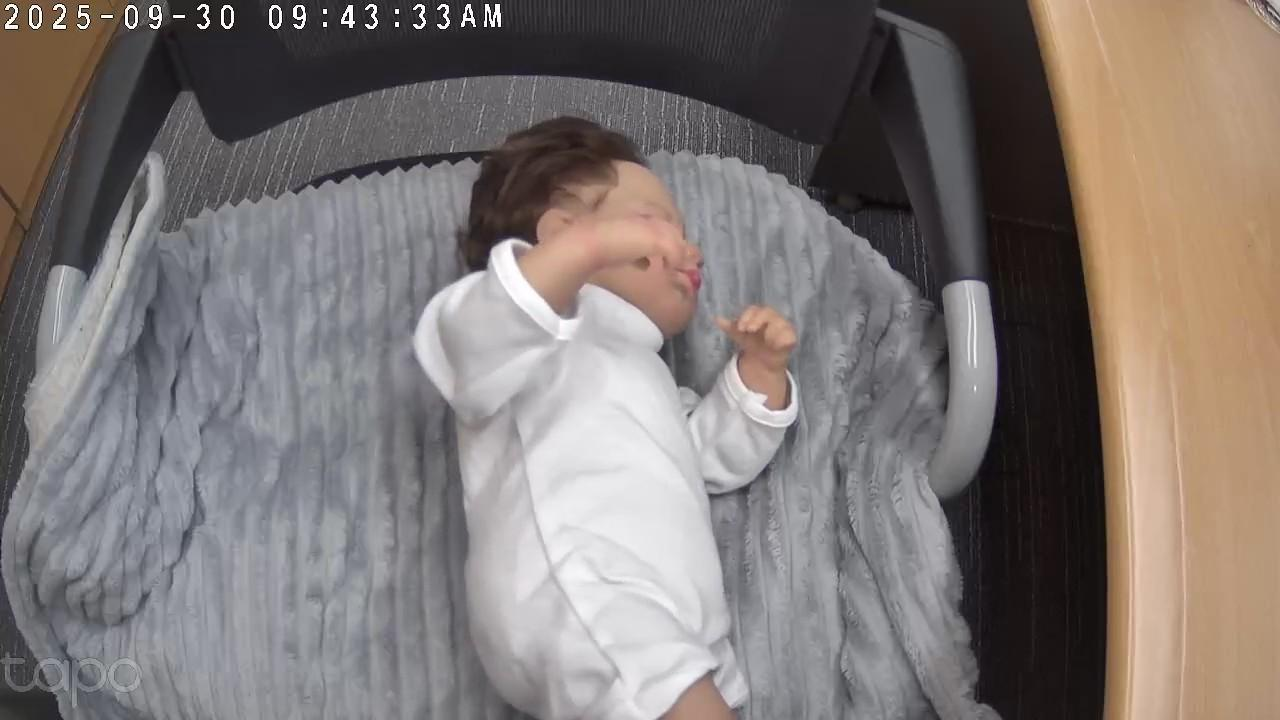hand: (714, 302, 800, 376), (591, 217, 652, 261)
